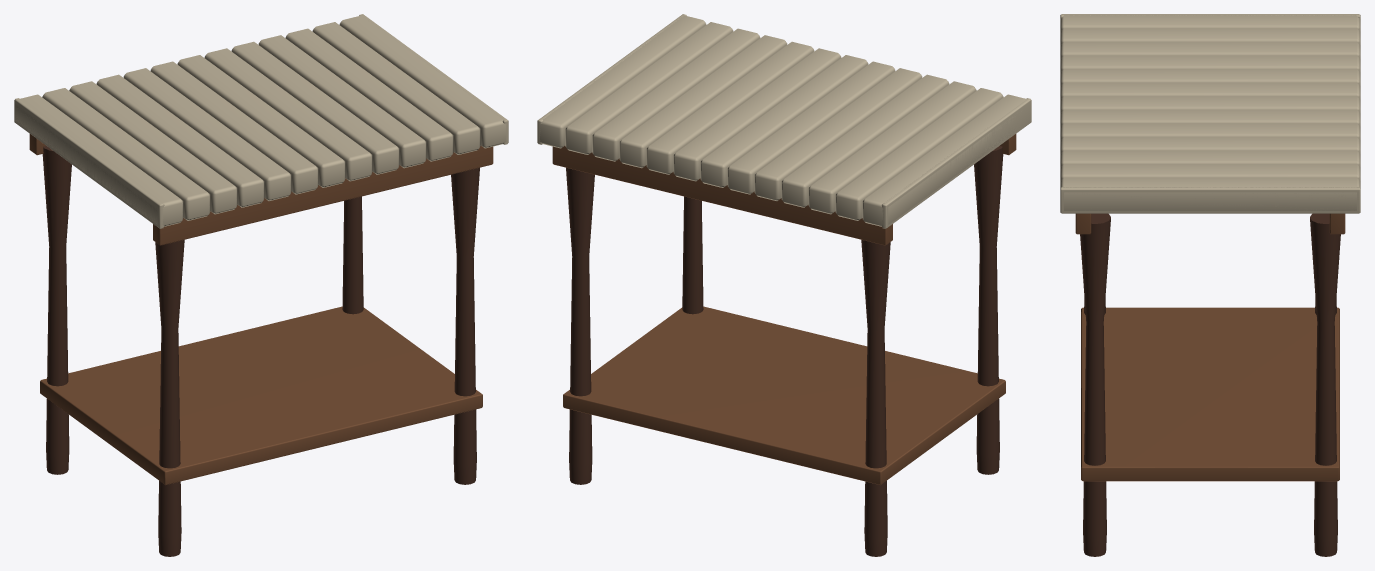
The model's file is rpg-mansion-kitchen-draining-stand-900-01.glb.
3 renders of one model, left to right at view 1: azimuth 30°, elevation 25°; view 2: azimuth 150°, elevation 25°; view 3: azimuth 270°, elevation 25°, orthographic. The views are drawn at different scales.
Visible parts, largest first — view 1: rpg-mansion-kitchen-draining-stand-900-01; view 2: rpg-mansion-kitchen-draining-stand-900-01; view 3: rpg-mansion-kitchen-draining-stand-900-01.
Boxes of the visible parts, x1,y1,x2,y2 form: rpg-mansion-kitchen-draining-stand-900-01: (14, 14, 508, 556); rpg-mansion-kitchen-draining-stand-900-01: (537, 14, 1031, 556); rpg-mansion-kitchen-draining-stand-900-01: (1060, 14, 1360, 556).
Bounding box in the file's own units: 0.9 × 0.9 × 0.65.
